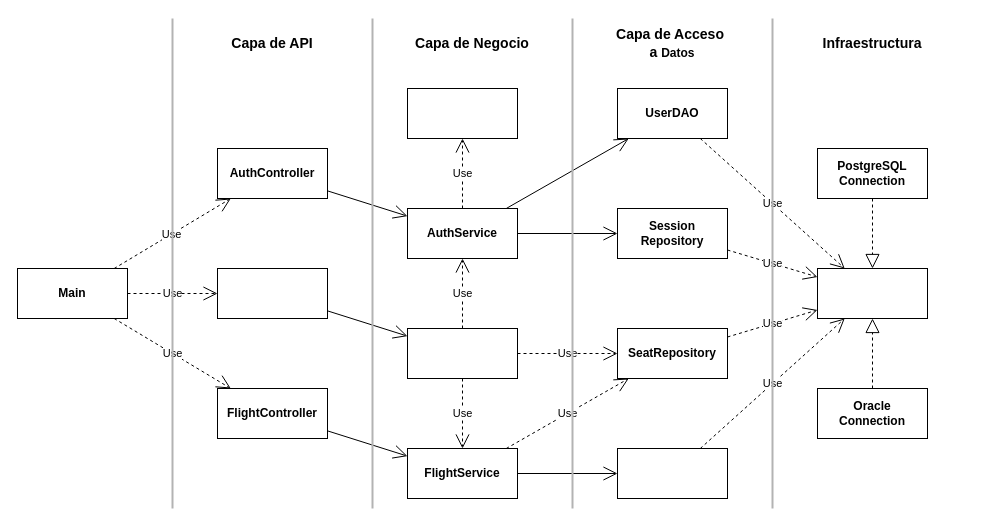
Image size: 985x526. Some labels were removed from this diagram. Each missing label, with the centre of its shape:
Booking Controller: [272,293]
BookingService: [462,353]
Database Connection: [872,293]
FlightRepository: [672,473]
Password Hasher: [462,113]
